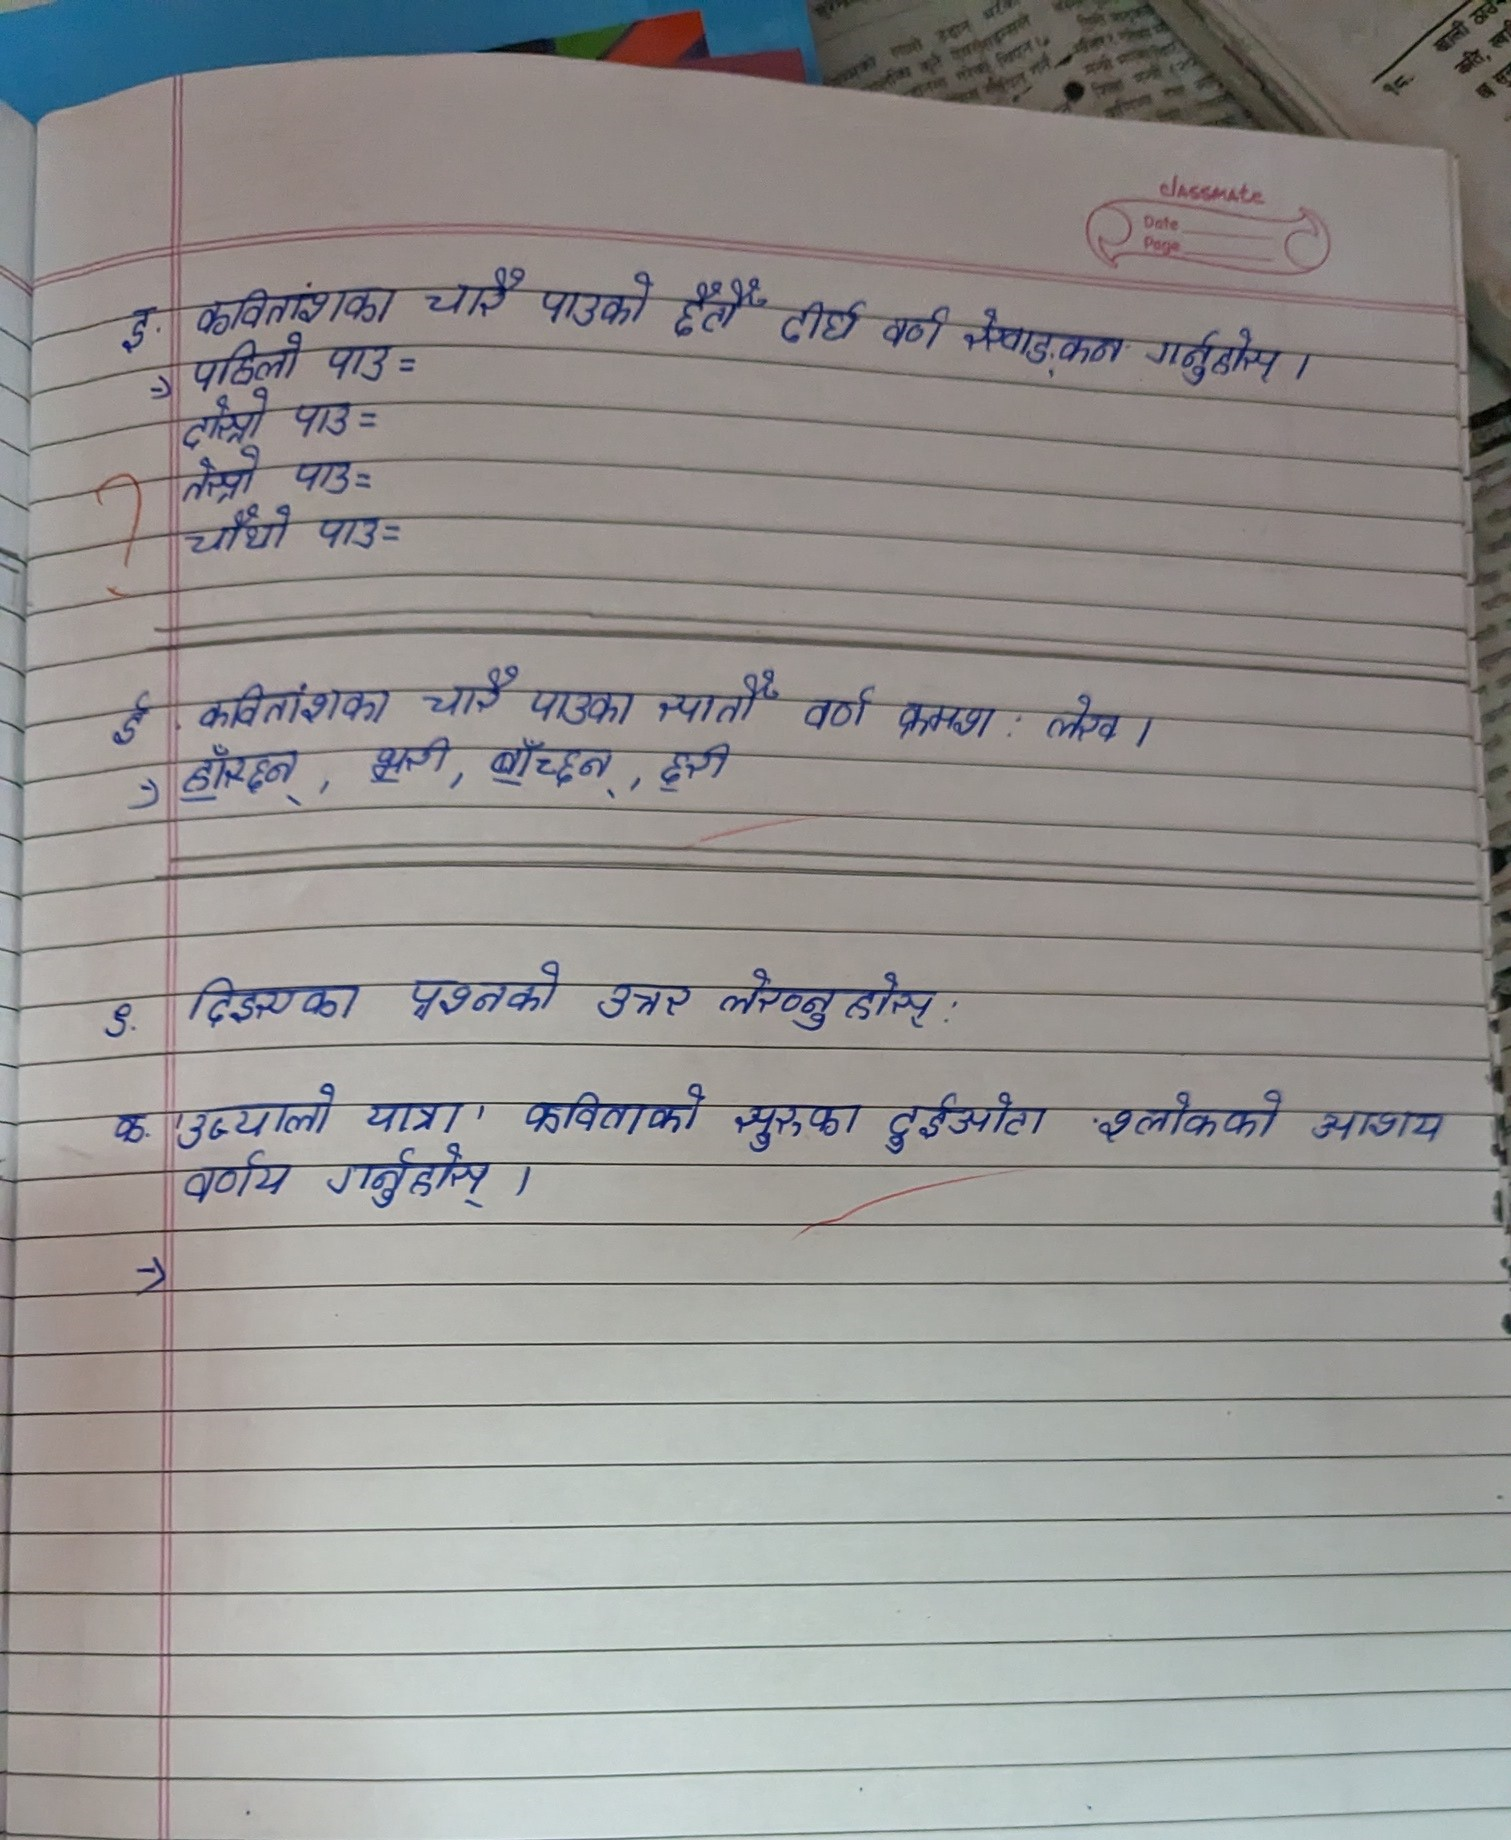text: (717, 960, 938, 1035), (959, 296, 1140, 381), (878, 1080, 1060, 1160), (512, 1071, 710, 1142), (1144, 312, 1299, 396), (1091, 1084, 1288, 1149), (321, 1146, 504, 1216), (186, 281, 399, 336), (400, 955, 571, 1019), (189, 682, 399, 730), (180, 1082, 341, 1145), (538, 257, 655, 335), (483, 730, 617, 798), (732, 1093, 866, 1160), (183, 980, 373, 1025), (651, 665, 782, 730), (671, 270, 770, 351), (419, 264, 535, 332), (776, 275, 866, 358), (1305, 1096, 1456, 1145), (174, 743, 303, 799), (176, 1149, 296, 1209), (186, 332, 310, 387), (888, 694, 999, 750), (594, 970, 704, 1025), (364, 727, 454, 792), (176, 507, 296, 555), (362, 1088, 466, 1142), (532, 675, 640, 726), (179, 390, 273, 445), (651, 732, 730, 796), (423, 663, 521, 715), (1043, 689, 1126, 750), (875, 300, 959, 358), (180, 446, 267, 500), (802, 674, 875, 732), (322, 330, 394, 384), (101, 688, 157, 753), (312, 509, 385, 556), (287, 452, 362, 495), (112, 295, 159, 362), (102, 1097, 160, 1151), (99, 987, 150, 1041), (290, 397, 354, 437)
